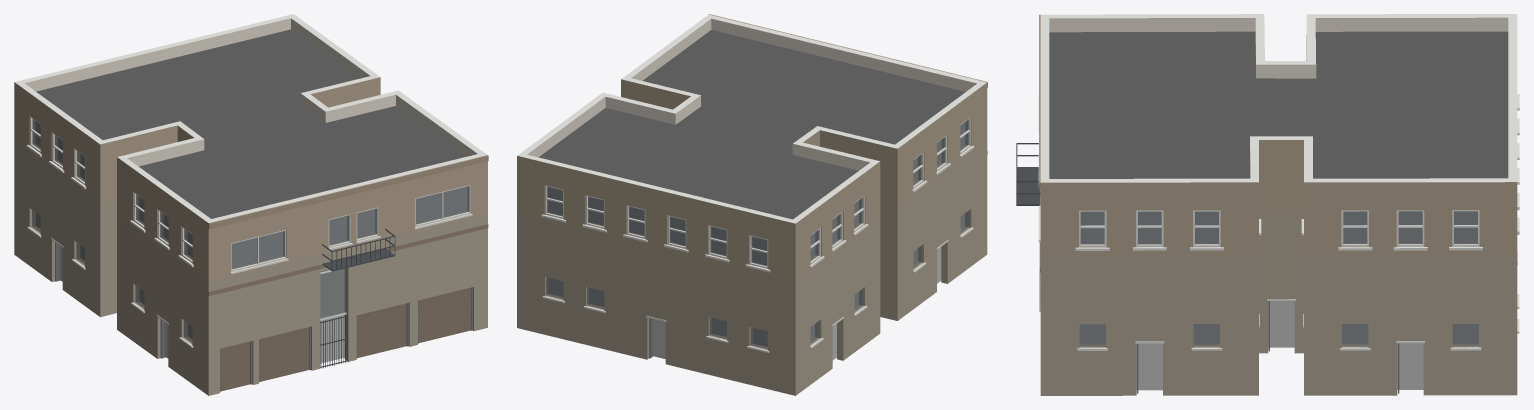
The model's file is exterior.glb.
3 views of the same model, side by side, from view 1: azimuth 30°, elevation 25°; view 2: azimuth 150°, elevation 25°; view 3: azimuth 270°, elevation 25° (orthographic). The views are drawn at different scales.
Visible parts, largest first — view 1: shell, roof, storefront, glazing, shadow-proxy, relief-0, frames, fire-escape, trim; view 2: shell, roof, glazing, shadow-proxy, frames, trim; view 3: shell, roof, shadow-proxy, glazing, frames, trim, fire-escape, storefront.
Part boxes in pixels (x1,y1,x2,y2): shell: [14, 14, 487, 395]; roof: [36, 29, 465, 218]; storefront: [51, 237, 472, 391]; glazing: [32, 119, 468, 342]; shadow-proxy: [36, 121, 467, 363]; relief-0: [208, 155, 488, 296]; frames: [30, 116, 470, 271]; fire-escape: [322, 229, 395, 271]; trim: [26, 145, 472, 347]; shell: [517, 14, 987, 395]; roof: [538, 30, 965, 219]; glazing: [546, 120, 969, 348]; shadow-proxy: [548, 122, 964, 360]; frames: [545, 117, 970, 268]; trim: [541, 145, 974, 352]; shell: [1040, 14, 1517, 395]; roof: [1049, 31, 1508, 178]; shadow-proxy: [1080, 211, 1478, 390]; glazing: [1079, 211, 1478, 346]; frames: [1079, 210, 1479, 246]; trim: [1038, 94, 1519, 350]; fire-escape: [1016, 143, 1040, 205]; storefront: [1039, 250, 1517, 393].
Size of the model in its own units: 15.35 by 8.94 by 19.13.
